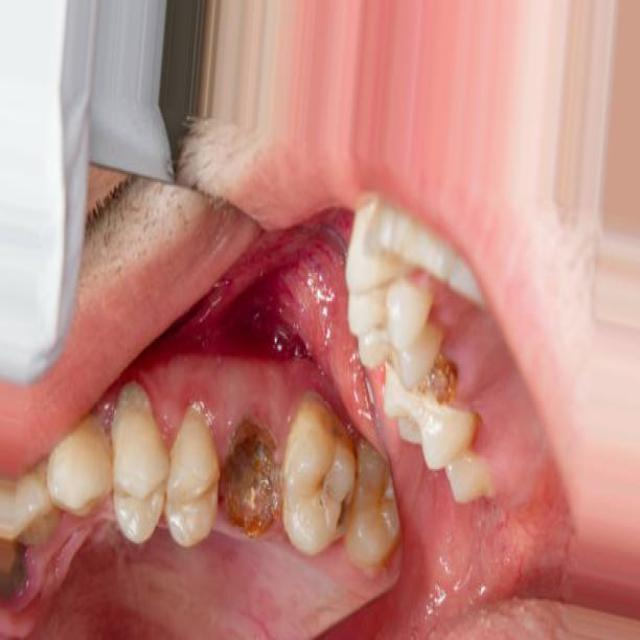caries: (213, 391, 286, 553), (416, 338, 470, 421), (108, 373, 162, 446), (319, 474, 359, 542)
